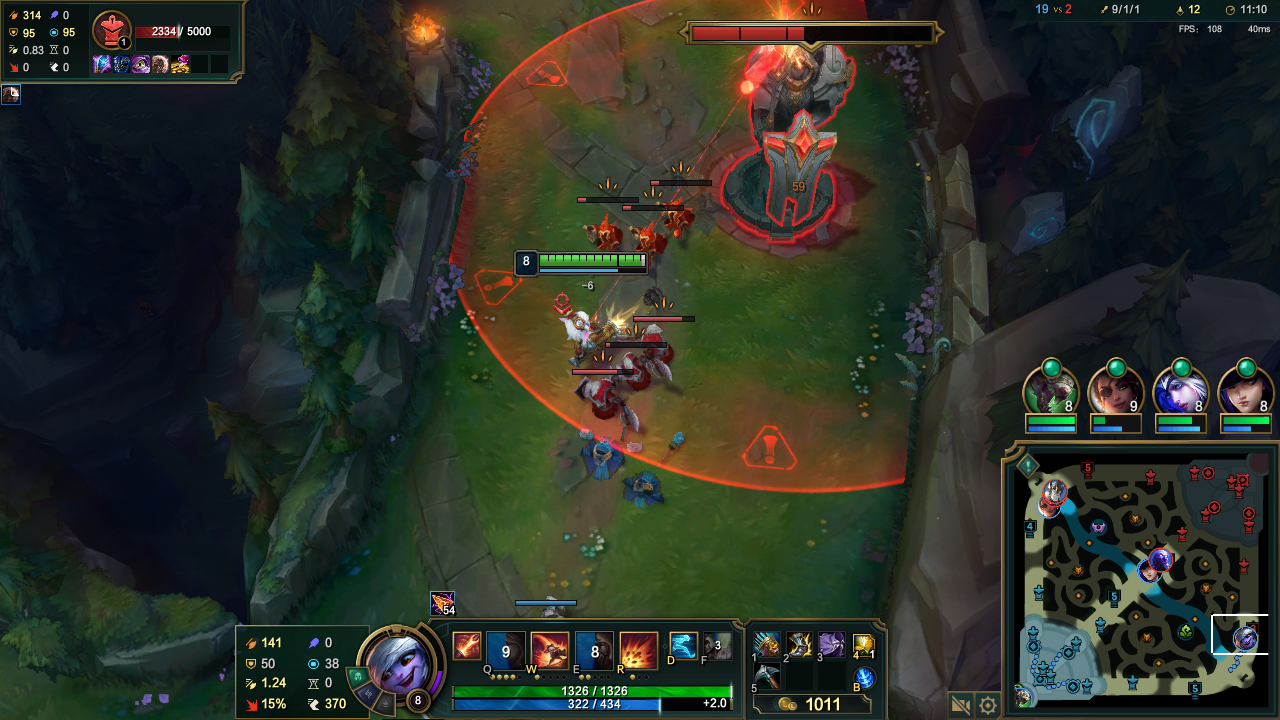DFFYT: (686, 19, 857, 243)
DFXB: (575, 374, 638, 436), (628, 218, 674, 268), (651, 190, 701, 232), (637, 327, 681, 373), (581, 211, 626, 255), (617, 352, 653, 392)
Yita: (1186, 676, 1203, 698)
